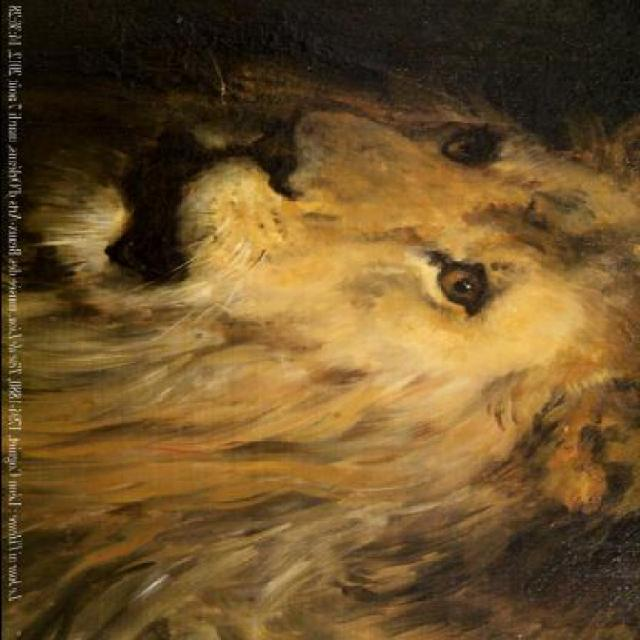Lion: (1, 57, 608, 620)
